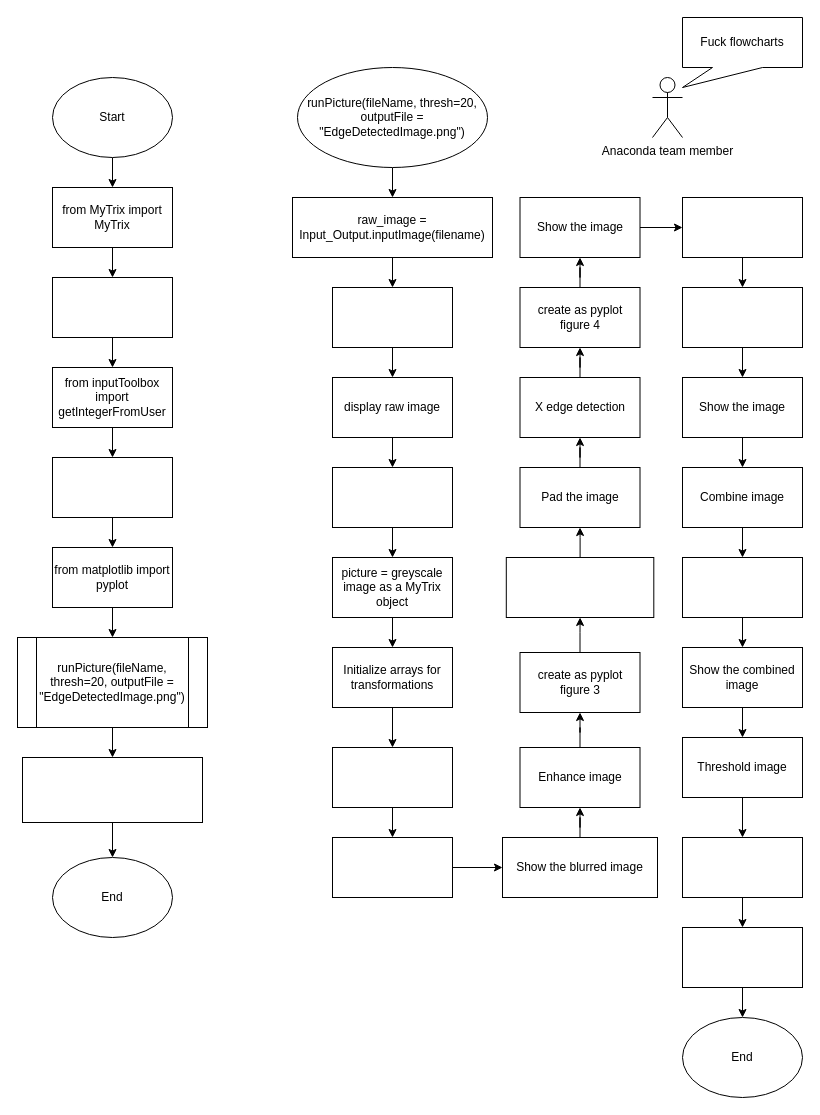
This 820x1115 diagram has some shape labels left out. The shapes that lost their labels are listed below. From the top down, each one's centre as x and y in pixels, then its label:
At point (742, 227): "Y edge detection".
At point (112, 307): "import Input_Output".
At point (392, 317): "create as pyplot figure 1".
At point (742, 317): "create as pyplot figure 5".
At point (112, 487): "from Grayscale import grayscale".
At point (392, 497): "Convert raw image to greyscale".
At point (579, 587): "Show the enhanced image".
At point (742, 587): "create as pyplot figure 6".
At point (112, 789): "runPicture( prompt user for file name, use getIntegerFromUser for threshold )".
At point (392, 777): "Blur image".
At point (392, 867): "create as pyplot figure 2".
At point (742, 867): "create as pyplot figure 7".
At point (742, 957): "Show the final image".
